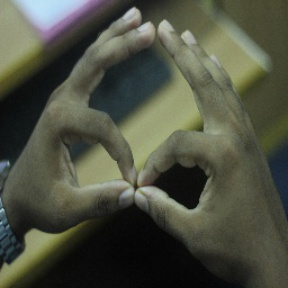B: (52, 41, 221, 225)
